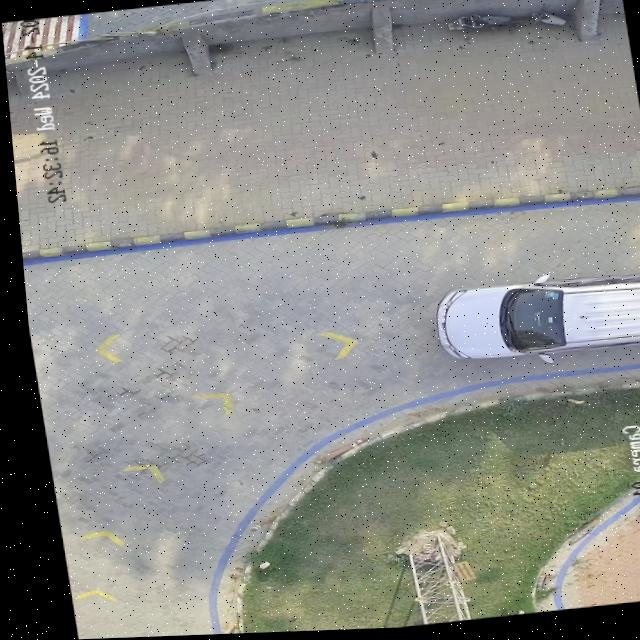car: (426, 278, 640, 362)
